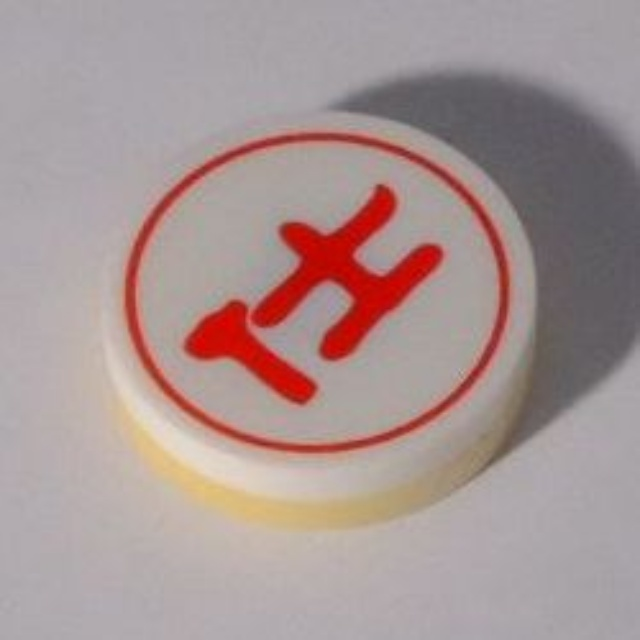red_si: (83, 92, 548, 529)
